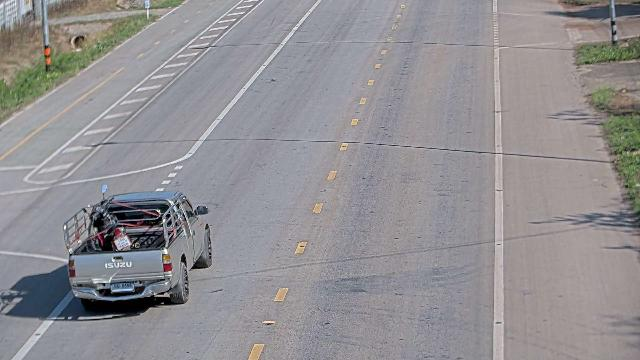pickup-truck: (62, 185, 213, 308)
